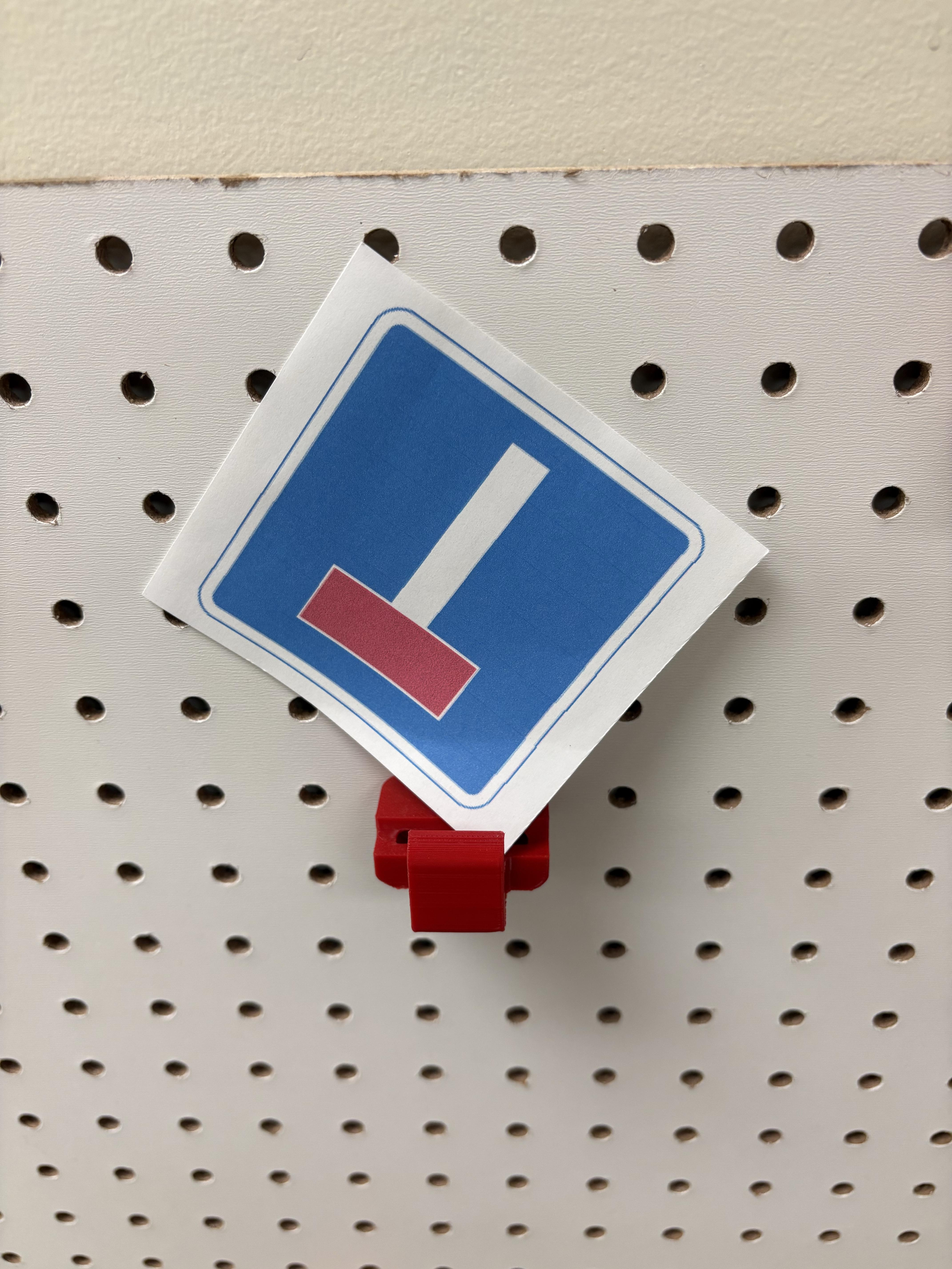Dead End: (105, 317, 580, 1107)
